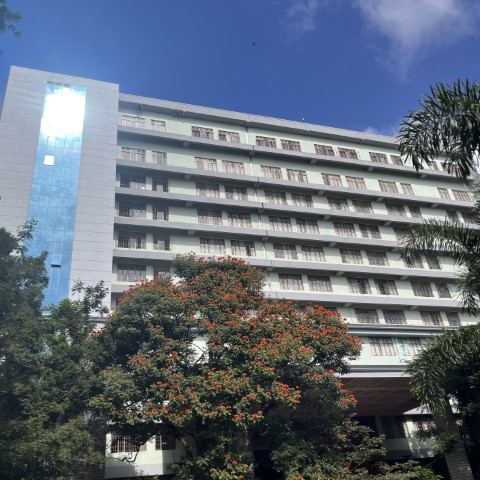Central Block: (3, 61, 480, 362)
